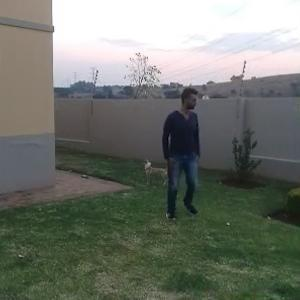follow: (158, 85, 202, 221)
